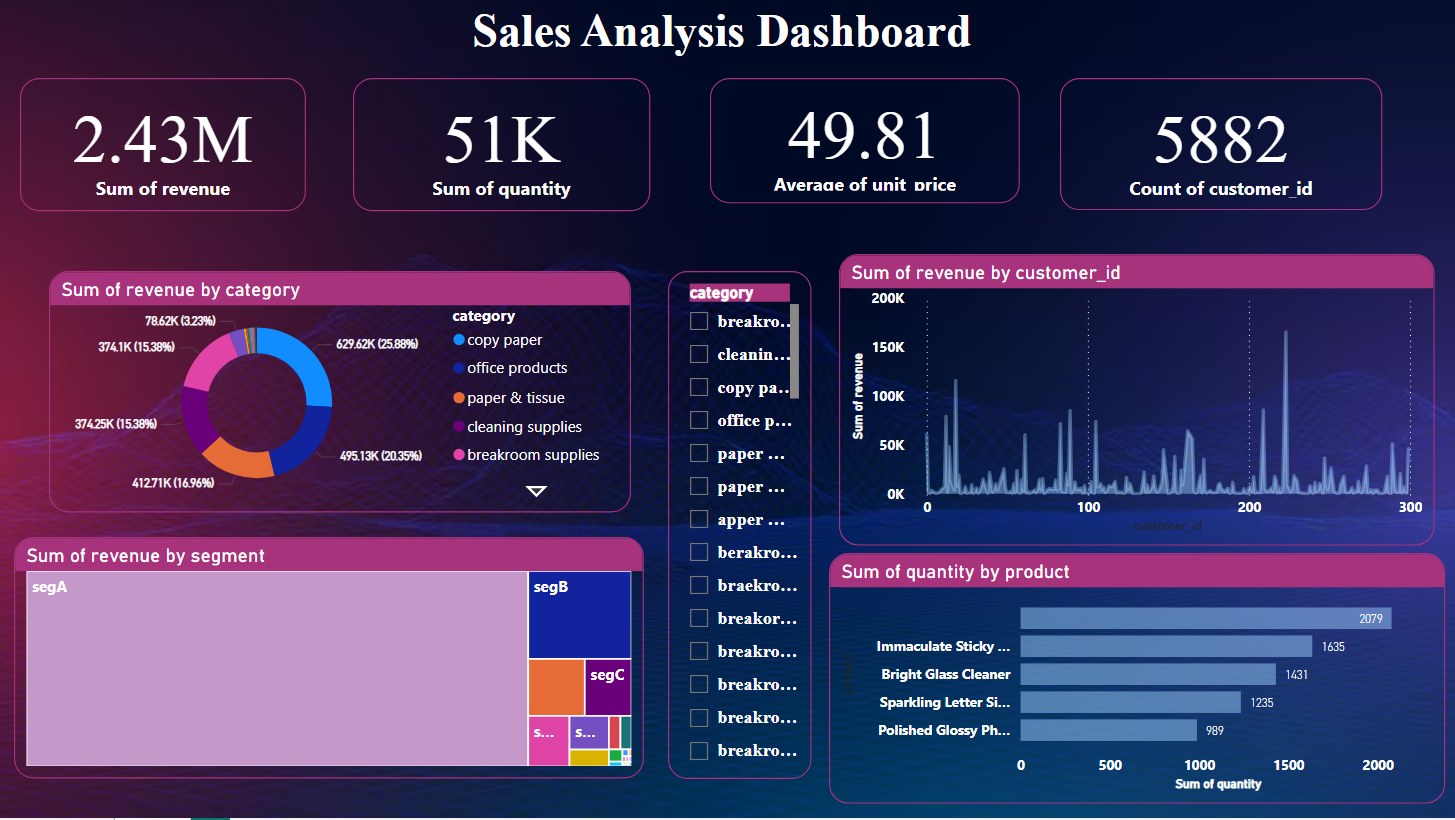

Layout of this report page (visuals, bound fields, positions):
{"tool":"powerbi","page":{"name":"Page 1","canvas":[1280,720],"ordinal":0},"visuals":[{"type":"lineChart","fields":{"Category":["sales_clean.customer_id"],"Y":["Sum(sales_clean.revenue)"]},"box":[736.7,224.8,523.3,255.5],"z":0},{"type":"donutChart","fields":{"Category":["sales_clean.category"],"Y":["Sum(sales_clean.revenue)"]},"box":[43,239.7,511,212.5],"z":1000},{"type":"clusteredBarChart","fields":{"Category":["sales_clean.product"],"Y":["Sum(sales_clean.quantity)"]},"box":[727.9,487.3,540.9,219.5],"z":2000},{"type":"treemap","fields":{"Group":["sales_clean.segment"],"Values":["Sum(sales_clean.revenue)"]},"box":[12.3,473.3,553.2,212.5],"z":3000},{"type":"card","fields":{"Values":["Sum(sales_clean.revenue)"]},"box":[17.6,70.2,251.1,116.8],"z":4000},{"type":"card","fields":{"Values":["CountNonNull(sales_clean.customer_id)"]},"box":[930.7,70.2,282.7,115.9],"z":5000},{"type":"card","fields":{"Values":["Sum(sales_clean.quantity)"]},"box":[310,70.2,260.8,116.8],"z":6000},{"type":"card","fields":{"Values":["Avg(sales_clean.unit_price)"]},"box":[623.4,70.2,272.2,109.8],"z":7000},{"type":"textbox","title":"Sales  Analysis Dashboard","box":[36,5.3,1195.9,93.1],"z":8000},{"type":"slicer","fields":{"Values":["sales_clean.category"]},"box":[586.5,239.7,126.4,446],"z":9000}]}

Visuals, with their boxes in screenshot pixels (x1, y1, x2, y2), scaled from the page's 1280x720 canvas onto the 1455x820 screenshot:
lineChart - sales_clean.customer_id x Sum(sales_clean.revenue): pyautogui.locateOnScreen(837, 256, 1432, 547)
donutChart - sales_clean.category x Sum(sales_clean.revenue): pyautogui.locateOnScreen(49, 273, 630, 515)
clusteredBarChart - sales_clean.product x Sum(sales_clean.quantity): pyautogui.locateOnScreen(827, 555, 1442, 805)
treemap - sales_clean.segment x Sum(sales_clean.revenue): pyautogui.locateOnScreen(14, 539, 643, 781)
card - Sum(sales_clean.revenue): pyautogui.locateOnScreen(20, 80, 305, 213)
card - CountNonNull(sales_clean.customer_id): pyautogui.locateOnScreen(1058, 80, 1379, 212)
card - Sum(sales_clean.quantity): pyautogui.locateOnScreen(352, 80, 649, 213)
card - Avg(sales_clean.unit_price): pyautogui.locateOnScreen(709, 80, 1018, 205)
"Sales  Analysis Dashboard" textbox: pyautogui.locateOnScreen(41, 6, 1400, 112)
slicer - sales_clean.category: pyautogui.locateOnScreen(667, 273, 810, 781)
